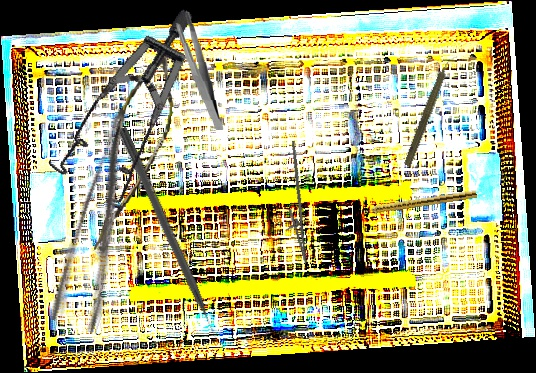Dressing Forceps: (45, 106, 165, 335), (174, 10, 225, 133)
Handpiece: (401, 51, 459, 169), (358, 187, 478, 217)
Micro Scissor: (93, 49, 179, 260)
Needle Holder: (268, 141, 322, 266)
Pusher: (115, 126, 223, 347)
Speculum: (13, 6, 258, 231)
